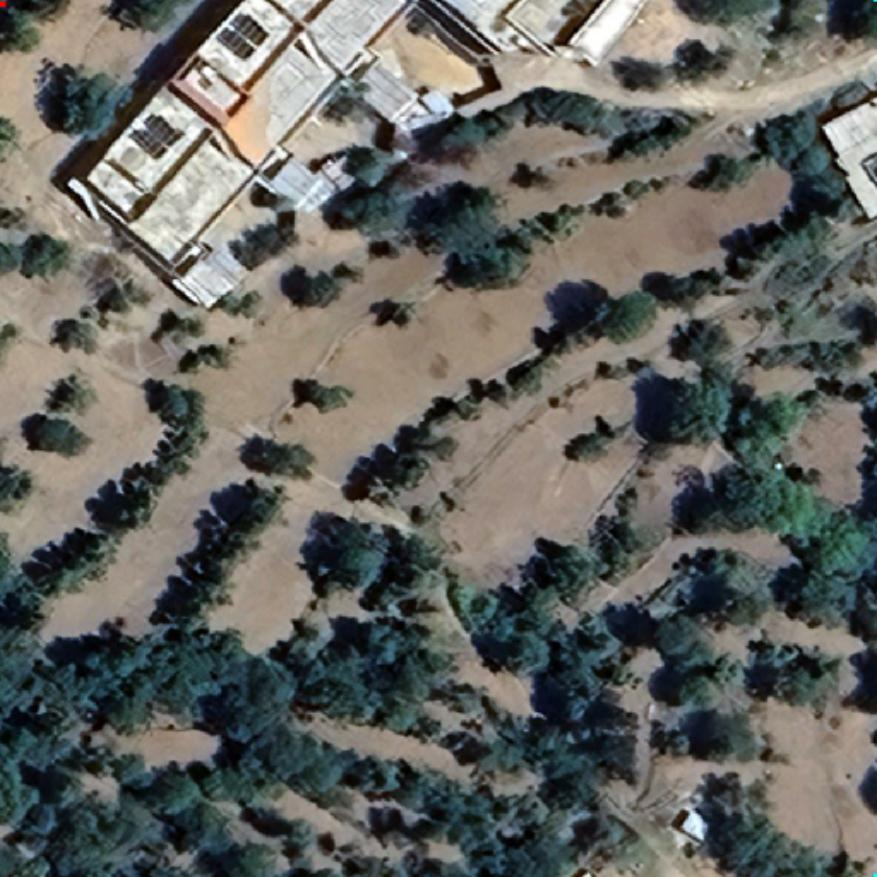Solarpanel: (213, 10, 270, 62), (131, 113, 181, 160)
